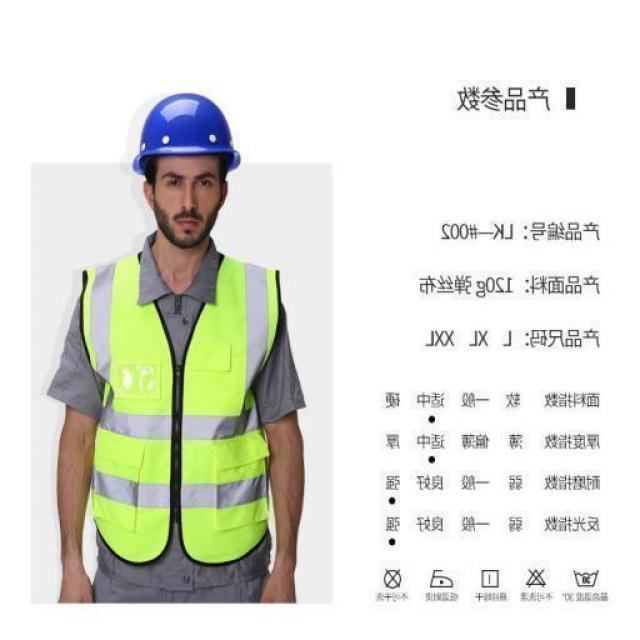helmet: (128, 87, 246, 163)
vest: (76, 250, 290, 572)
